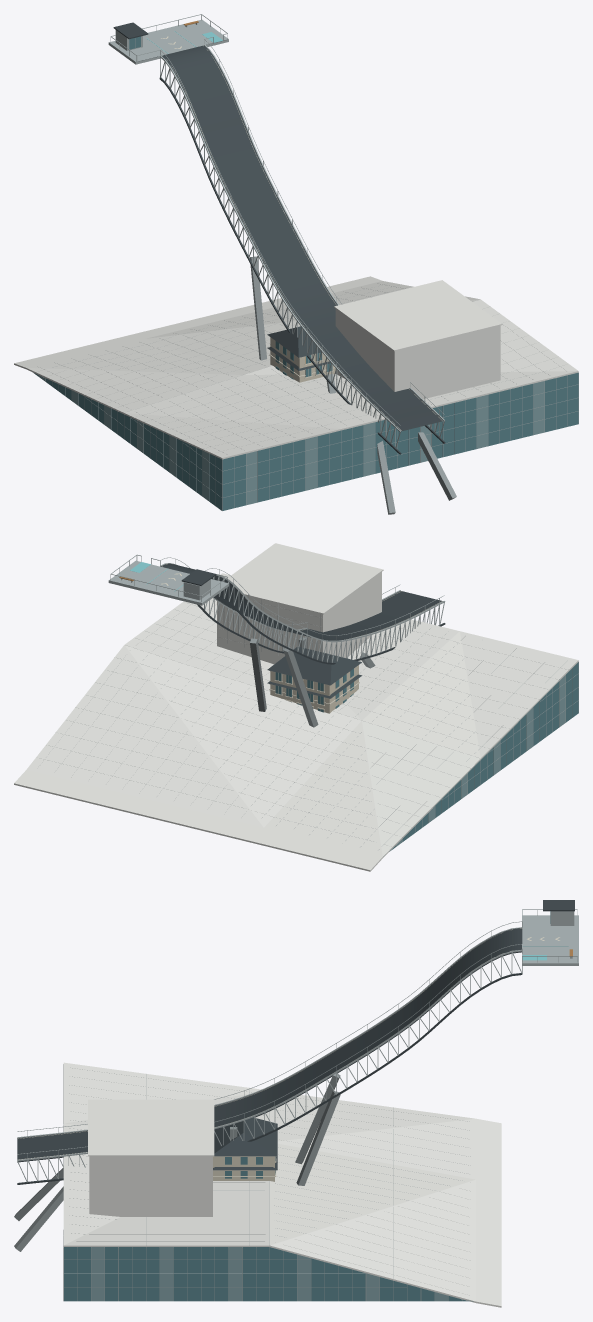
The model's file is oslo-kit.glb.
3 renders of one model, top to bottom at view 1: azimuth 30°, elevation 25°; view 2: azimuth 150°, elevation 25°; view 3: azimuth 270°, elevation 25°, orthographic. The views are drawn at different scales.
Parts seen in each view (by area): view 1: OperaHouse__Carrara • warm white, Holmenkollen__Charcoal zinc, OperaHouse__Fjord glass, Holmenkollen__Brushed steel, OperaHouse__Glass reflection variation, OperaHouse__Brushed steel, Holmenkollen__Granite base, OperaHouse__Stone joints, HouseIvory__Ivory render, HouseIvory__Charcoal zinc, Holmenkollen__Limestone trim; view 2: OperaHouse__Carrara • warm white, Holmenkollen__Brushed steel, Holmenkollen__Charcoal zinc, OperaHouse__Fjord glass, OperaHouse__Stone joints, HouseIvory__Charcoal zinc, Holmenkollen__Granite base, HouseIvory__Ivory render, OperaHouse__Glass reflection variation, OperaHouse__Brushed steel, HouseIvory__Limestone trim; view 3: OperaHouse__Carrara • warm white, OperaHouse__Fjord glass, Holmenkollen__Charcoal zinc, Holmenkollen__Brushed steel, OperaHouse__Glass reflection variation, Holmenkollen__Granite base, OperaHouse__Stone joints, OperaHouse__Brushed steel, HouseIvory__Charcoal zinc, HouseIvory__Ivory render.
Boxes of the visible parts, x1,y1,x2,y2 form: OperaHouse__Carrara • warm white: [14, 276, 578, 459]; Holmenkollen__Charcoal zinc: [113, 22, 445, 454]; OperaHouse__Fjord glass: [34, 372, 578, 510]; Holmenkollen__Brushed steel: [108, 14, 444, 448]; OperaHouse__Glass reflection variation: [39, 375, 544, 505]; OperaHouse__Brushed steel: [39, 373, 578, 510]; Holmenkollen__Granite base: [250, 256, 456, 514]; OperaHouse__Stone joints: [42, 283, 564, 452]; HouseIvory__Ivory render: [270, 337, 335, 382]; HouseIvory__Charcoal zinc: [267, 326, 321, 357]; Holmenkollen__Limestone trim: [161, 36, 442, 430]; OperaHouse__Carrara • warm white: [14, 543, 578, 871]; Holmenkollen__Brushed steel: [108, 554, 445, 662]; Holmenkollen__Charcoal zinc: [161, 563, 445, 664]; OperaHouse__Fjord glass: [389, 662, 578, 851]; OperaHouse__Stone joints: [37, 599, 568, 850]; HouseIvory__Charcoal zinc: [267, 646, 361, 685]; Holmenkollen__Granite base: [250, 638, 375, 727]; HouseIvory__Ivory render: [270, 665, 358, 713]; OperaHouse__Glass reflection variation: [396, 675, 565, 846]; OperaHouse__Brushed steel: [395, 662, 578, 846]; HouseIvory__Limestone trim: [269, 670, 359, 712]; OperaHouse__Carrara • warm white: [63, 1062, 501, 1307]; OperaHouse__Fjord glass: [64, 1247, 473, 1301]; Holmenkollen__Charcoal zinc: [17, 900, 574, 1184]; Holmenkollen__Brushed steel: [17, 909, 578, 1182]; OperaHouse__Glass reflection variation: [91, 1247, 448, 1301]; Holmenkollen__Granite base: [14, 1073, 340, 1251]; OperaHouse__Stone joints: [69, 1067, 470, 1295]; OperaHouse__Brushed steel: [63, 1064, 462, 1301]; HouseIvory__Charcoal zinc: [214, 1117, 277, 1156]; HouseIvory__Ivory render: [213, 1157, 274, 1181].
Bounding box in the file's own units: 84.08 × 66.99 × 110.
